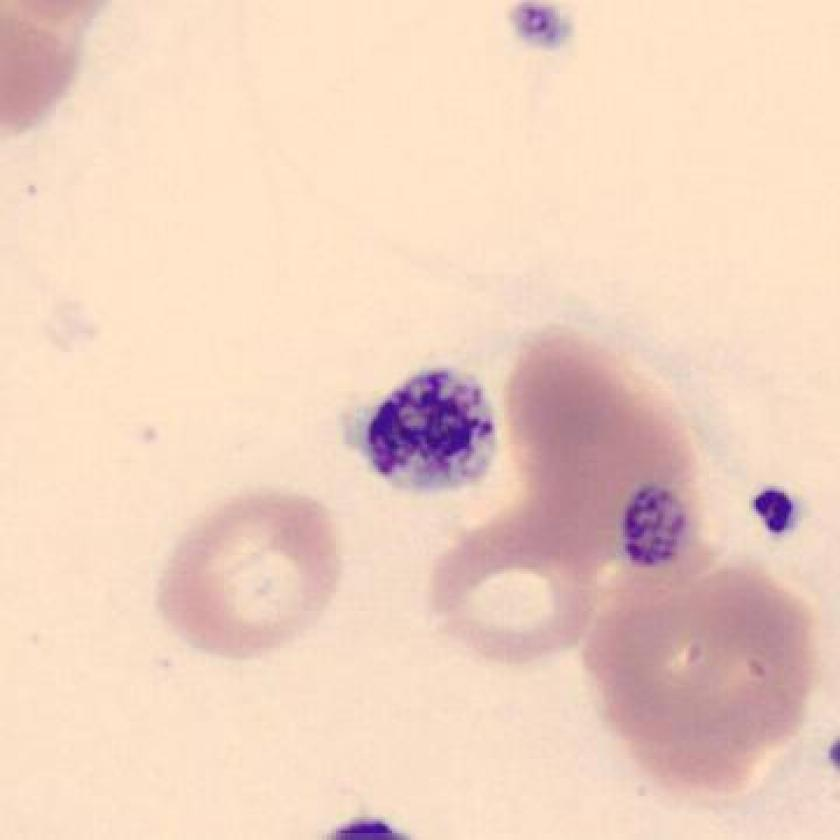platelets: (356, 348, 517, 515), (606, 476, 711, 580)
